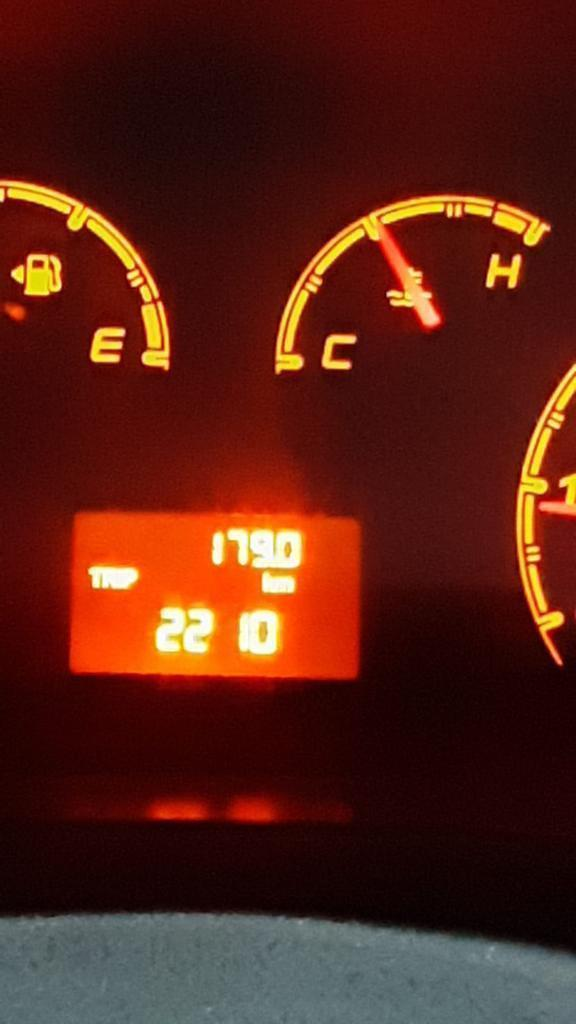,: (272, 553, 278, 570)
0: (249, 607, 281, 656), (276, 525, 303, 568)
1: (210, 527, 225, 568), (237, 606, 248, 659)
2: (154, 605, 185, 655), (185, 605, 212, 654)
7: (227, 526, 249, 567)
9: (250, 527, 275, 568)
X: (274, 574, 294, 594), (86, 564, 101, 589), (101, 564, 114, 590), (124, 566, 137, 589), (260, 571, 273, 594), (116, 566, 122, 594)
odometer: (65, 505, 364, 682)
